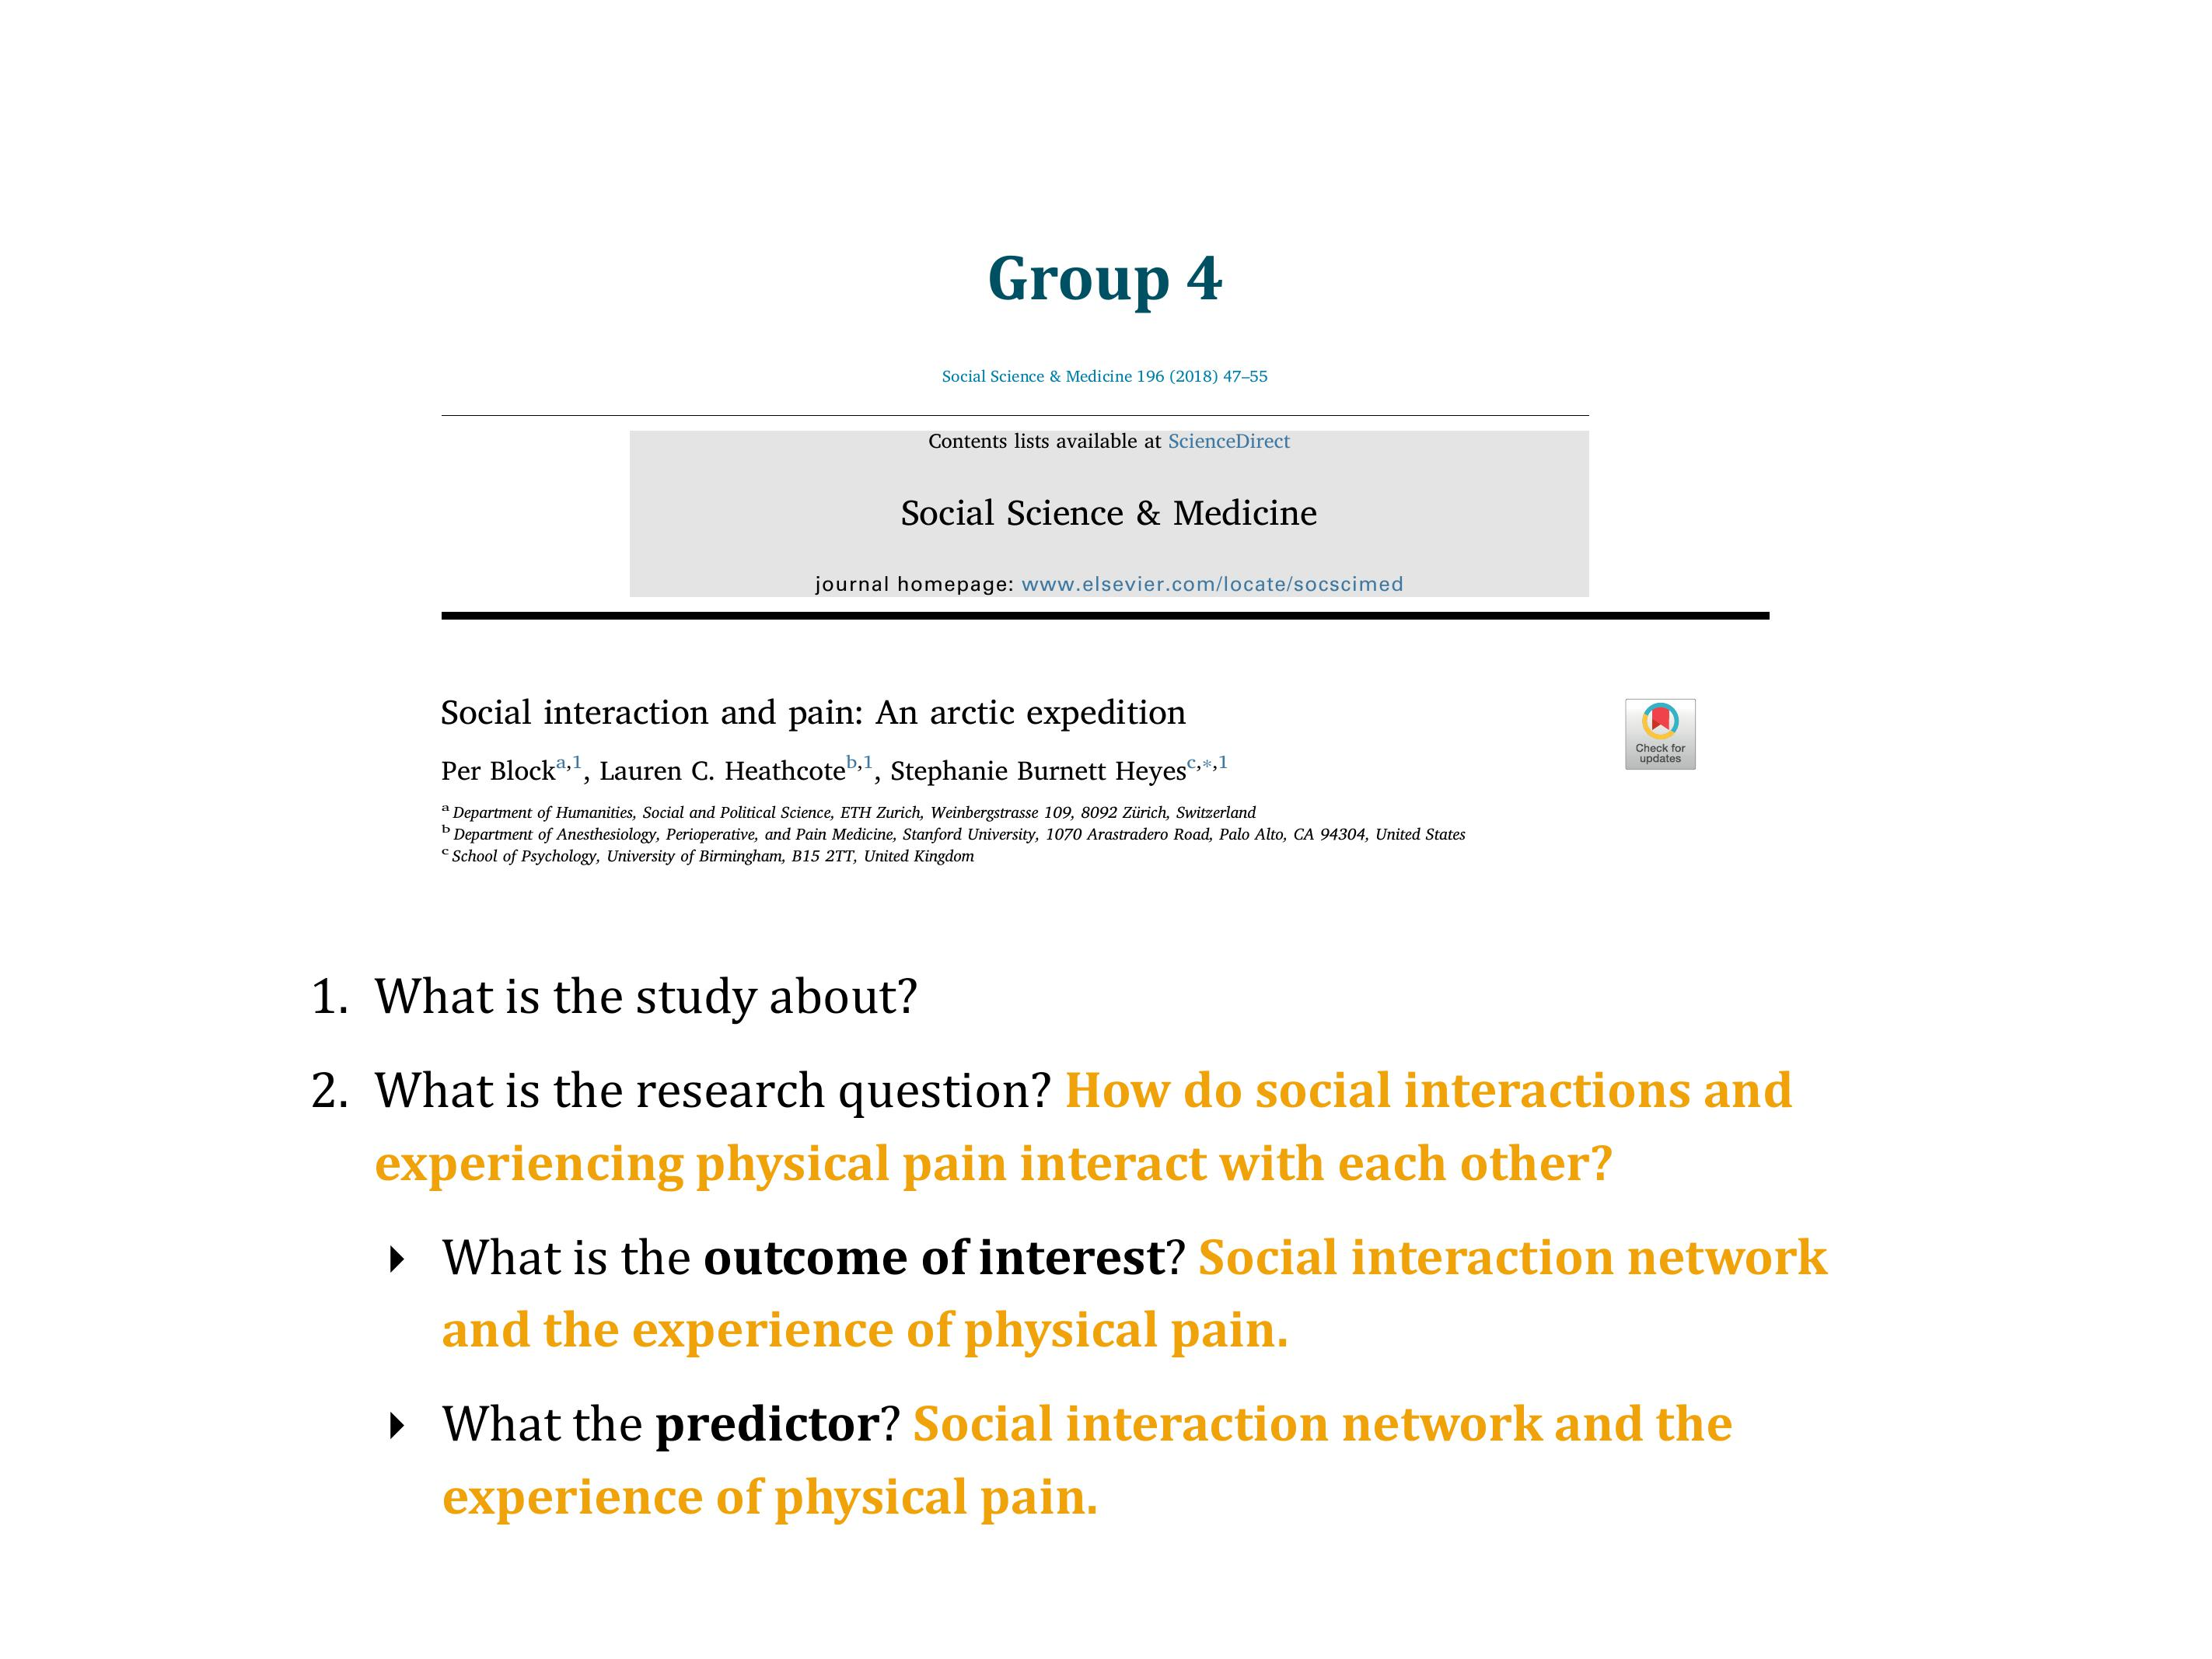Title: (950, 225, 1241, 324)
